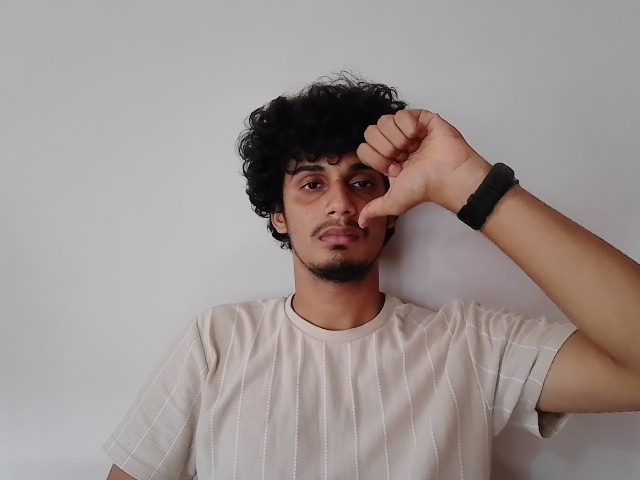drink: (268, 111, 466, 285)
